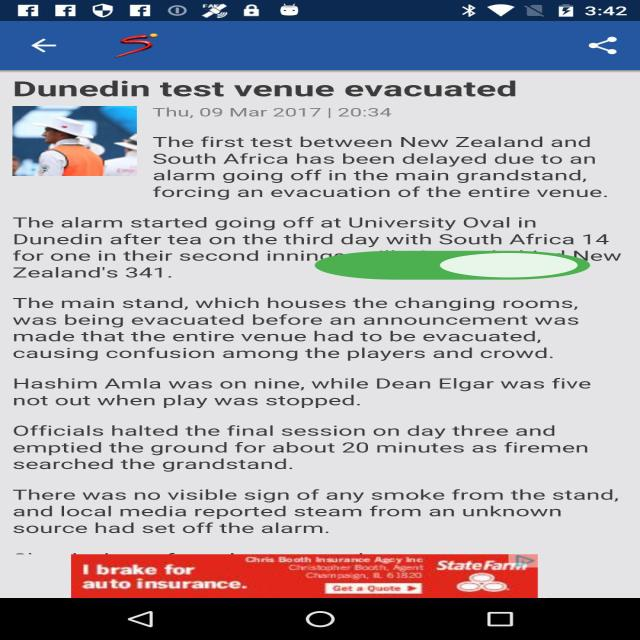social proof: (302, 240, 603, 293)
